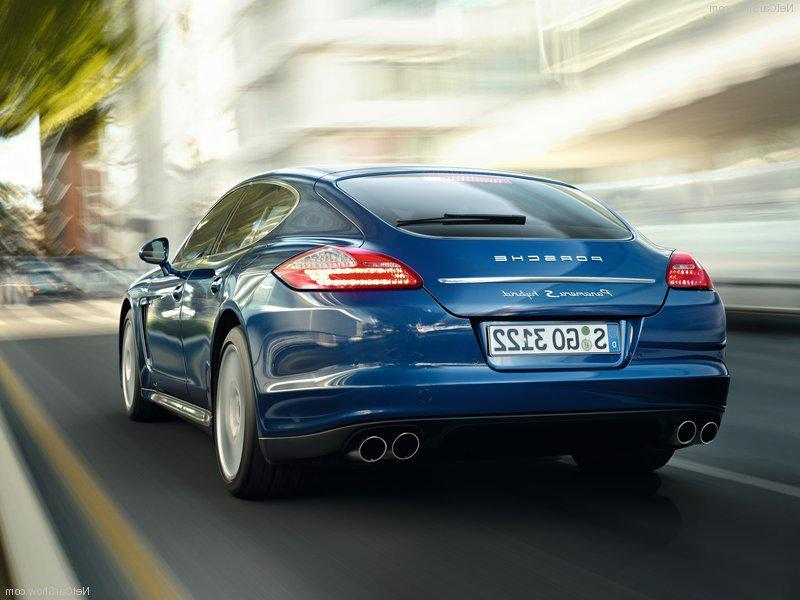Car: (103, 149, 754, 505)
